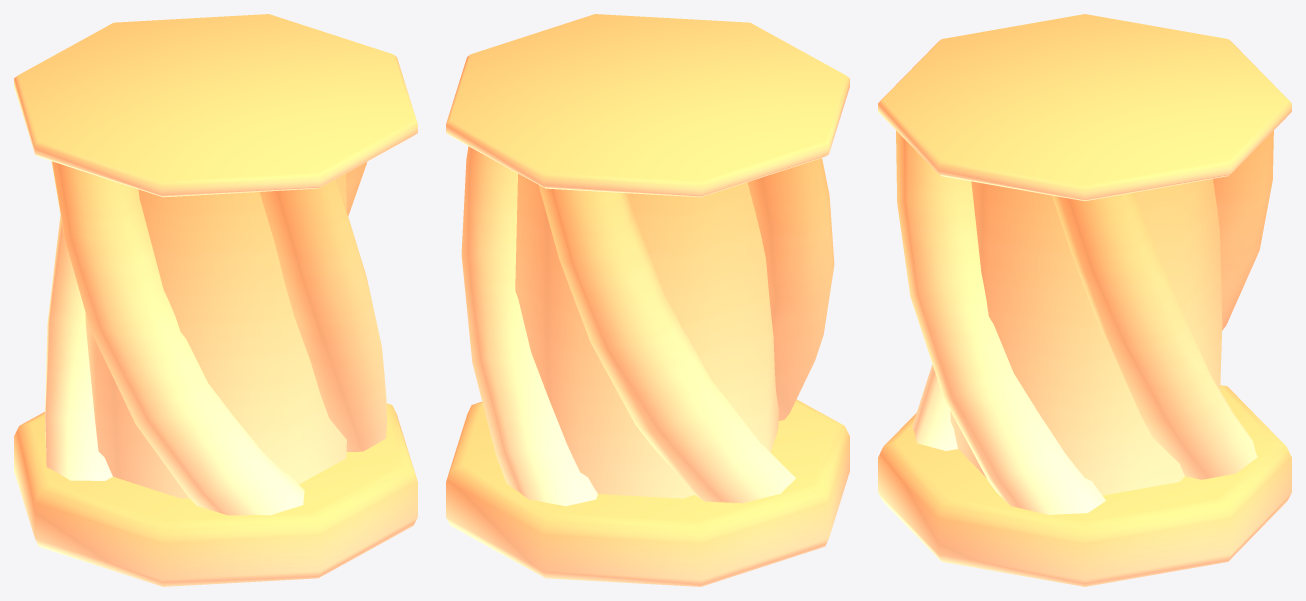
Rendered from wood_grip_098_004.glb.
The picture shows the model from 3 angles, left to right: view 1: azimuth 30°, elevation 25°; view 2: azimuth 150°, elevation 25°; view 3: azimuth 270°, elevation 25°; orthographic projection.
Parts seen in each view (by area): view 1: wood_grip_098.004; view 2: wood_grip_098.004; view 3: wood_grip_098.004.
Boxes of the visible parts, left/top/right/bottom form: wood_grip_098.004: left=14, top=14, right=417, bottom=586; wood_grip_098.004: left=446, top=14, right=849, bottom=586; wood_grip_098.004: left=878, top=14, right=1291, bottom=586.
Size of the model in its own units: 2.89 by 3.13 by 2.89.
1 material, 1 textured.
